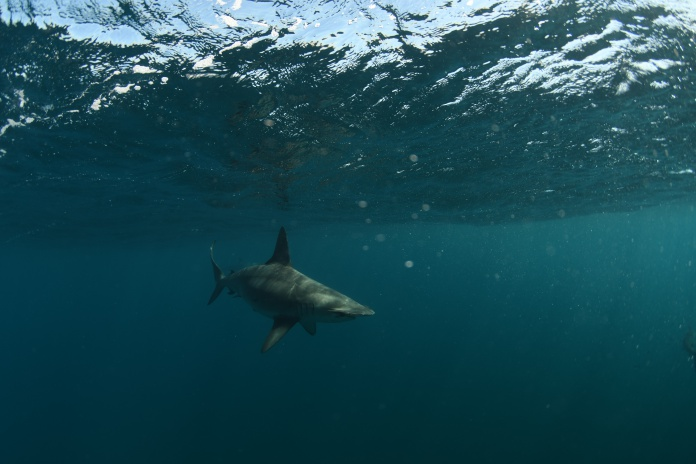Hammer: (203, 229, 386, 360)
